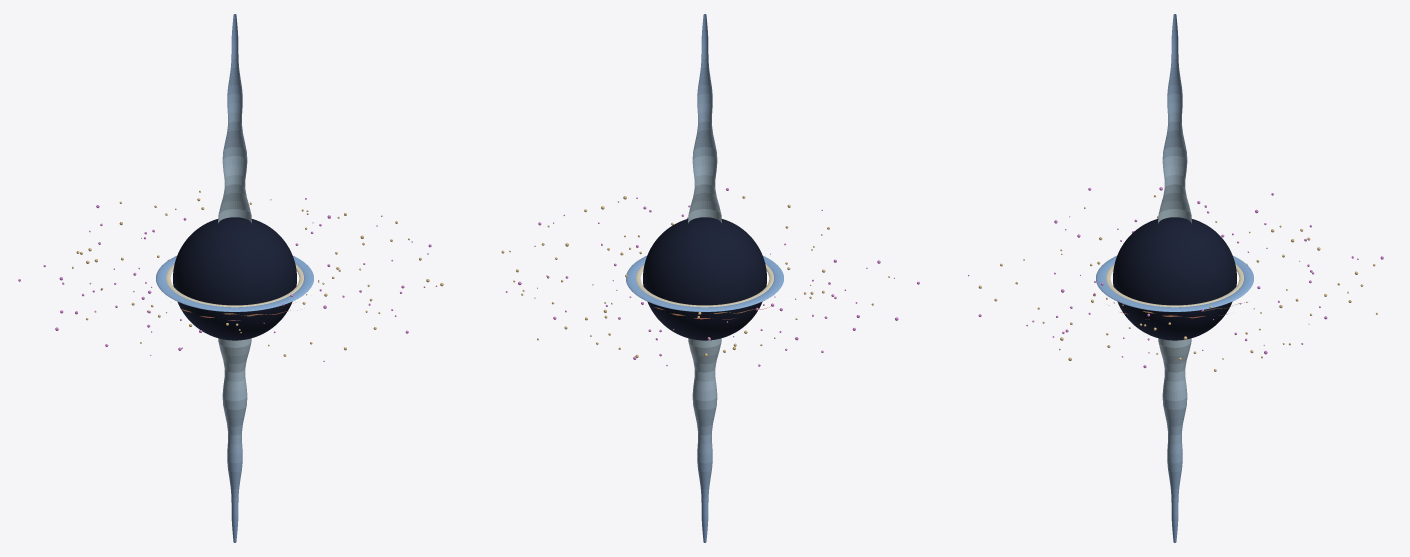
Rendered from martins_black_hole.glb.
3 renders of one model, left to right at view 1: azimuth 30°, elevation 25°; view 2: azimuth 150°, elevation 25°; view 3: azimuth 270°, elevation 25°, orthographic.
Parts seen in each view (by area): view 1: EventHorizon, RelativisticJetTop, RelativisticJetBottom, LensingHalo, OrbitingPlasmaParticles, PhotonRing; view 2: EventHorizon, RelativisticJetTop, RelativisticJetBottom, LensingHalo, OrbitingPlasmaParticles, PhotonRing; view 3: EventHorizon, RelativisticJetTop, RelativisticJetBottom, LensingHalo, OrbitingPlasmaParticles, PhotonRing.
Part boxes in pixels (x1,y1,x2,y2): EventHorizon: [173, 217, 296, 340]; RelativisticJetTop: [218, 14, 251, 223]; RelativisticJetBottom: [218, 338, 251, 542]; LensingHalo: [156, 256, 313, 311]; OrbitingPlasmaParticles: [18, 190, 443, 361]; PhotonRing: [166, 264, 303, 307]; EventHorizon: [643, 217, 766, 340]; RelativisticJetTop: [688, 14, 721, 223]; RelativisticJetBottom: [688, 338, 721, 542]; LensingHalo: [626, 256, 783, 311]; OrbitingPlasmaParticles: [501, 188, 919, 366]; PhotonRing: [636, 264, 773, 307]; EventHorizon: [1113, 217, 1236, 340]; RelativisticJetTop: [1158, 14, 1191, 223]; RelativisticJetBottom: [1158, 338, 1191, 542]; LensingHalo: [1096, 256, 1253, 311]; OrbitingPlasmaParticles: [968, 187, 1383, 371]; PhotonRing: [1106, 264, 1243, 307].
Size of the model in its own units: 9.1 by 12 by 9.1.
